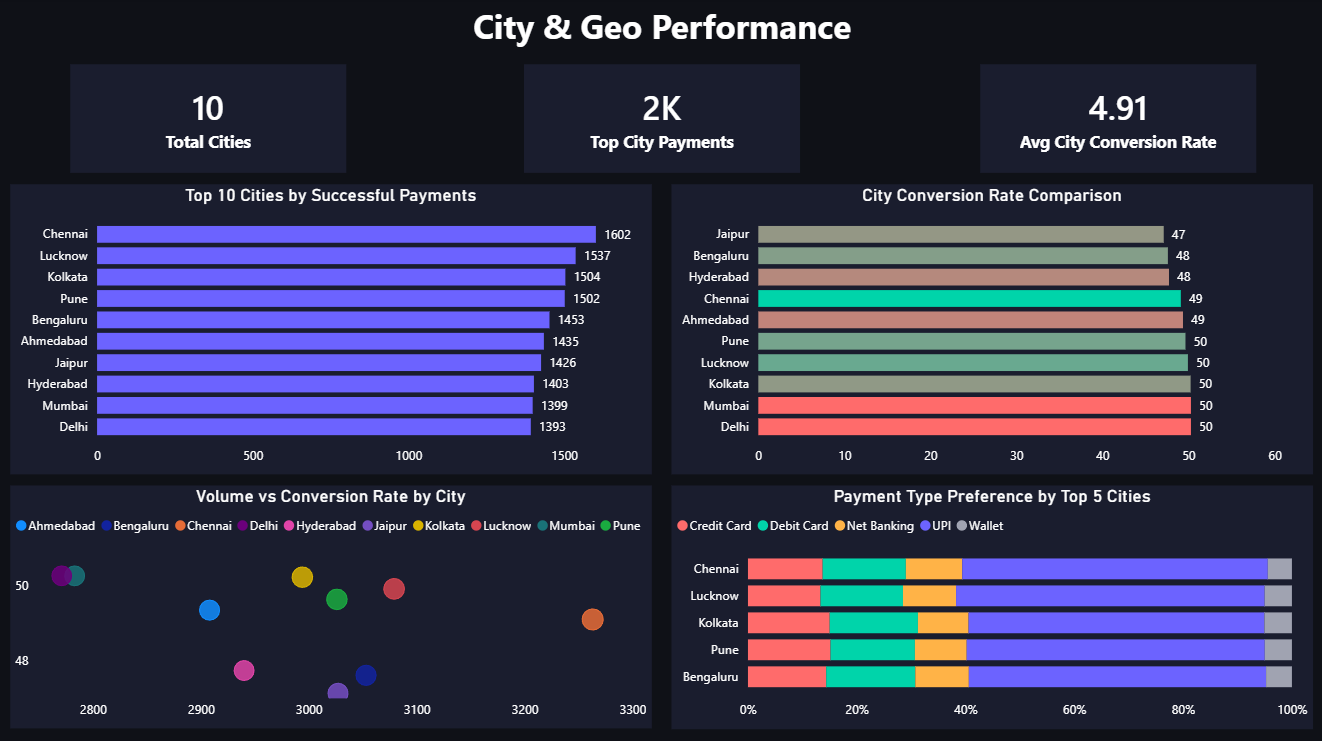

The dashboard page shown, as its layout file describes it:
{"tool":"powerbi","page":{"name":"City & Geo Performance","canvas":[1280,720],"ordinal":3},"visuals":[{"type":"cardVisual","fields":{"Data":["fintech_funnel_events.Total Cities"]},"box":[68.8,63.9,266.6,105],"z":0},{"type":"cardVisual","fields":{"Data":["fintech_funnel_events.Top City Payments"]},"box":[506.7,63.9,266.6,105],"z":1000},{"type":"cardVisual","fields":{"Data":["fintech_funnel_events.Avg City Conversion Rate"]},"box":[947.1,63.9,266.6,105],"z":2000},{"type":"clusteredBarChart","title":"Top 10 Cities by Successful Payments","fields":{"Category":["fintech_funnel_events.city"],"Y":["fintech_funnel_events.Successful Payments"]},"box":[11,179.8,618.9,279.9],"z":3000},{"type":"clusteredBarChart","title":"City Conversion Rate Comparison","fields":{"Category":["fintech_funnel_events.city"],"Y":["fintech_funnel_events.Overall Conversion Rate"]},"box":[649.1,179.8,618.9,279.9],"z":4000},{"type":"scatterChart","title":"Volume vs Conversion Rate by City","fields":{"X":["fintech_funnel_events.Total Sessions"],"Y":["fintech_funnel_events.Overall Conversion Rate"],"Series":["fintech_funnel_events.city"],"Size":["fintech_funnel_events.Successful Payments"]},"box":[11,470.7,618.9,234.6],"z":5000},{"type":"hundredPercentStackedBarChart","title":"Payment Type Preference by Top 5 Cities","fields":{"Category":["fintech_funnel_events.city"],"Y":["fintech_funnel_events.Total Sessions"],"Series":["fintech_funnel_events.payment_type"]},"box":[649,471,619,235],"z":5001},{"type":"textbox","box":[0,0,1280,54.3],"z":5002}]}

Visuals, with their boxes in screenshot pixels (x1, y1, x2, y2), scaled from the page's 1280x720 canvas onto the 1322x741 screenshot:
cardVisual - fintech_funnel_events.Total Cities: 71 66 346 174
cardVisual - fintech_funnel_events.Top City Payments: 523 66 799 174
cardVisual - fintech_funnel_events.Avg City Conversion Rate: 978 66 1254 174
"Top 10 Cities by Successful Payments" clusteredBarChart: 11 185 651 473
"City Conversion Rate Comparison" clusteredBarChart: 670 185 1310 473
"Volume vs Conversion Rate by City" scatterChart: 11 484 651 726
"Payment Type Preference by Top 5 Cities" hundredPercentStackedBarChart: 670 485 1310 727
textbox: 0 0 1321 56
